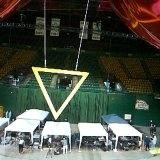Yellow_Triangle_Gshape: (30, 66, 90, 120)
